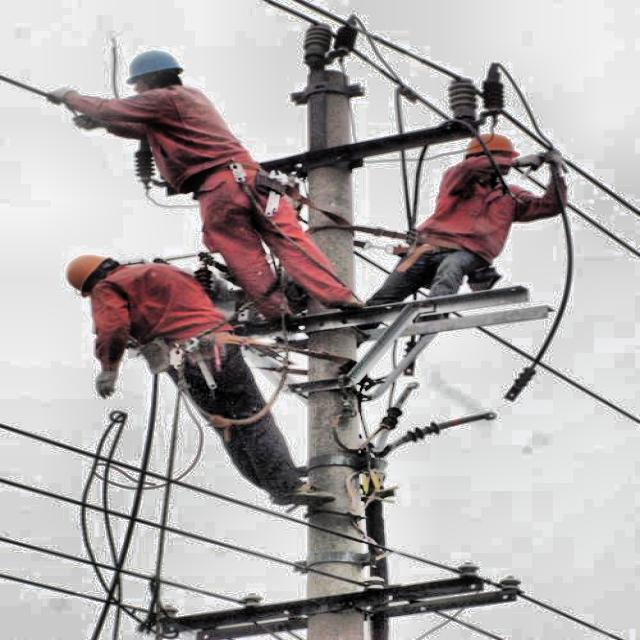helmet: (118, 45, 189, 105), (57, 246, 132, 299), (457, 134, 517, 178)
